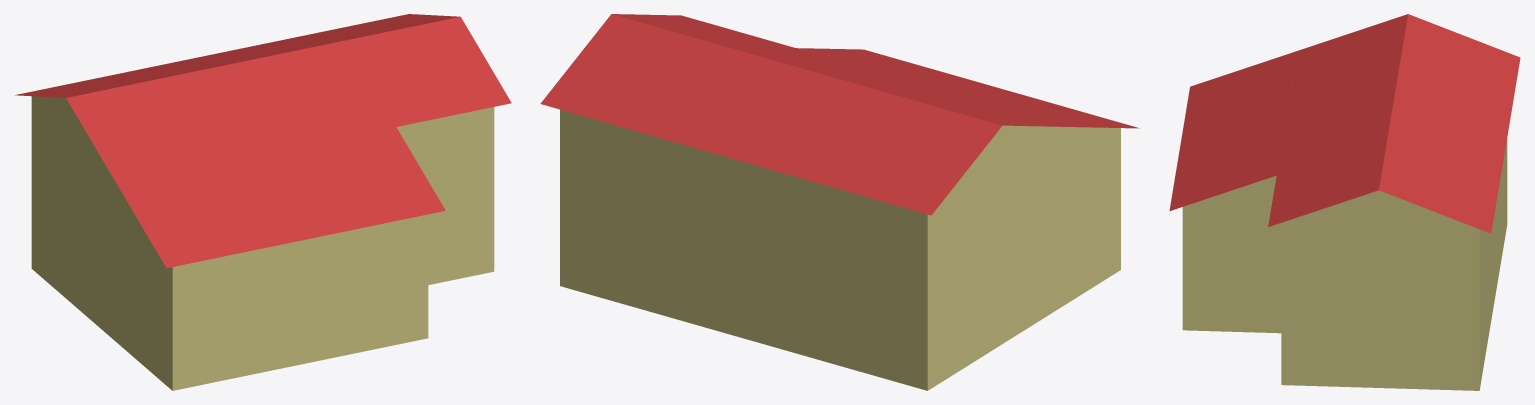
3 views of the same model, side by side, from view 1: azimuth 30°, elevation 25°; view 2: azimuth 150°, elevation 25°; view 3: azimuth 270°, elevation 25° (orthographic). The views are drawn at different scales.
Bounding box in the file's own units: 17.57 × 14.01 × 8.93.
